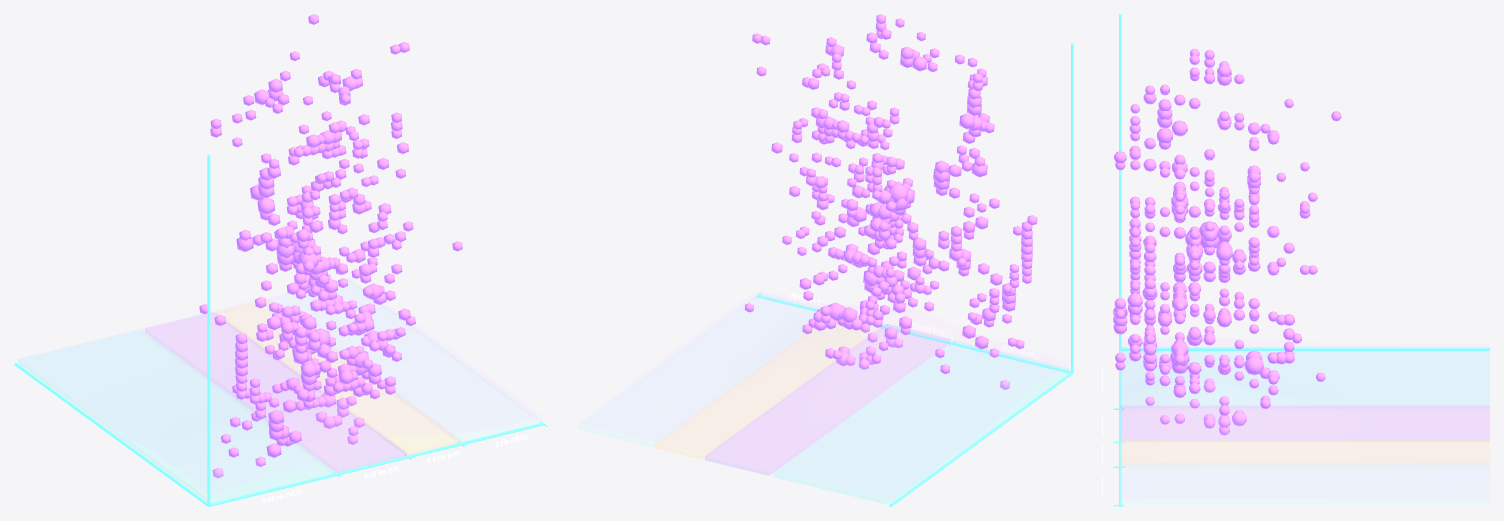
The model's file is cube_hrv_sessionB.glb.
The picture shows the model from 3 angles, left to right: view 1: azimuth 30°, elevation 25°; view 2: azimuth 150°, elevation 25°; view 3: azimuth 270°, elevation 25°; orthographic projection. The views are drawn at different scales.
Visible parts, largest first — view 1: hrv_sessionB_BandLandscape, hrv_sessionB_EnergyLobes, hrv_sessionB_BandSlab_VLF, hrv_sessionB_BandSlab_LF, hrv_sessionB_BandSlab_HF, hrv_sessionB_Axis_t, hrv_sessionB_Axis_fc, hrv_sessionB_Axis_fam; view 2: hrv_sessionB_BandLandscape, hrv_sessionB_EnergyLobes, hrv_sessionB_BandSlab_VLF, hrv_sessionB_BandSlab_LF, hrv_sessionB_BandSlab_HF, hrv_sessionB_Axis_t, hrv_sessionB_Axis_fc, hrv_sessionB_Axis_fam; view 3: hrv_sessionB_BandLandscape, hrv_sessionB_EnergyLobes, hrv_sessionB_BandSlab_VLF, hrv_sessionB_BandSlab_LF, hrv_sessionB_BandSlab_HF, hrv_sessionB_BandSlab_VHF, hrv_sessionB_Axis_fam, hrv_sessionB_Axis_t.
Boxes of the visible parts, x1=… form: hrv_sessionB_BandLandscape: x1=17, y1=278, x2=541, y2=493; hrv_sessionB_EnergyLobes: x1=199, y1=14, x2=462, y2=478; hrv_sessionB_BandSlab_VLF: x1=19, y1=330, x2=333, y2=502; hrv_sessionB_BandSlab_LF: x1=145, y1=312, x2=405, y2=472; hrv_sessionB_BandSlab_HF: x1=216, y1=299, x2=459, y2=454; hrv_sessionB_Axis_t: x1=207, y1=154, x2=210, y2=506; hrv_sessionB_Axis_fc: x1=209, y1=422, x2=543, y2=506; hrv_sessionB_Axis_fam: x1=14, y1=363, x2=208, y2=506; hrv_sessionB_BandLandscape: x1=578, y1=291, x2=1070, y2=499; hrv_sessionB_EnergyLobes: x1=744, y1=14, x2=1037, y2=389; hrv_sessionB_BandSlab_VLF: x1=773, y1=341, x2=1069, y2=504; hrv_sessionB_BandSlab_LF: x1=705, y1=324, x2=949, y2=475; hrv_sessionB_BandSlab_HF: x1=655, y1=317, x2=883, y2=458; hrv_sessionB_Axis_t: x1=1071, y1=43, x2=1073, y2=372; hrv_sessionB_Axis_fc: x1=757, y1=294, x2=1070, y2=373; hrv_sessionB_Axis_fam: x1=889, y1=372, x2=1073, y2=506; hrv_sessionB_BandLandscape: x1=1121, y1=337, x2=1489, y2=499; hrv_sessionB_EnergyLobes: x1=1113, y1=48, x2=1341, y2=435; hrv_sessionB_BandSlab_VLF: x1=1121, y1=347, x2=1489, y2=404; hrv_sessionB_BandSlab_LF: x1=1121, y1=406, x2=1489, y2=438; hrv_sessionB_BandSlab_HF: x1=1121, y1=439, x2=1489, y2=463; hrv_sessionB_BandSlab_VHF: x1=1122, y1=498, x2=1489, y2=504; hrv_sessionB_Axis_fam: x1=1121, y1=348, x2=1489, y2=350; hrv_sessionB_Axis_t: x1=1119, y1=14, x2=1121, y2=348.
Bounding box in the file's own units: 10.06 × 10.37 × 10.49.
